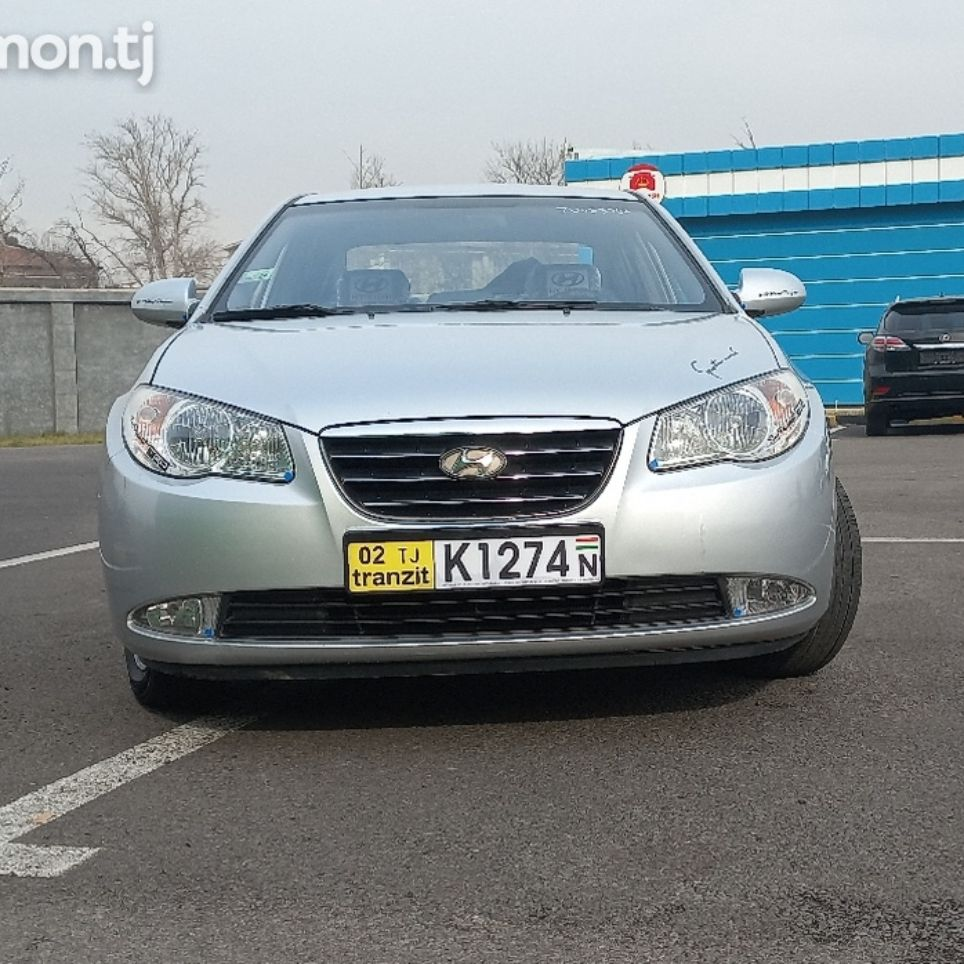license plate: (345, 528, 604, 593)
truck: (104, 171, 867, 717)
